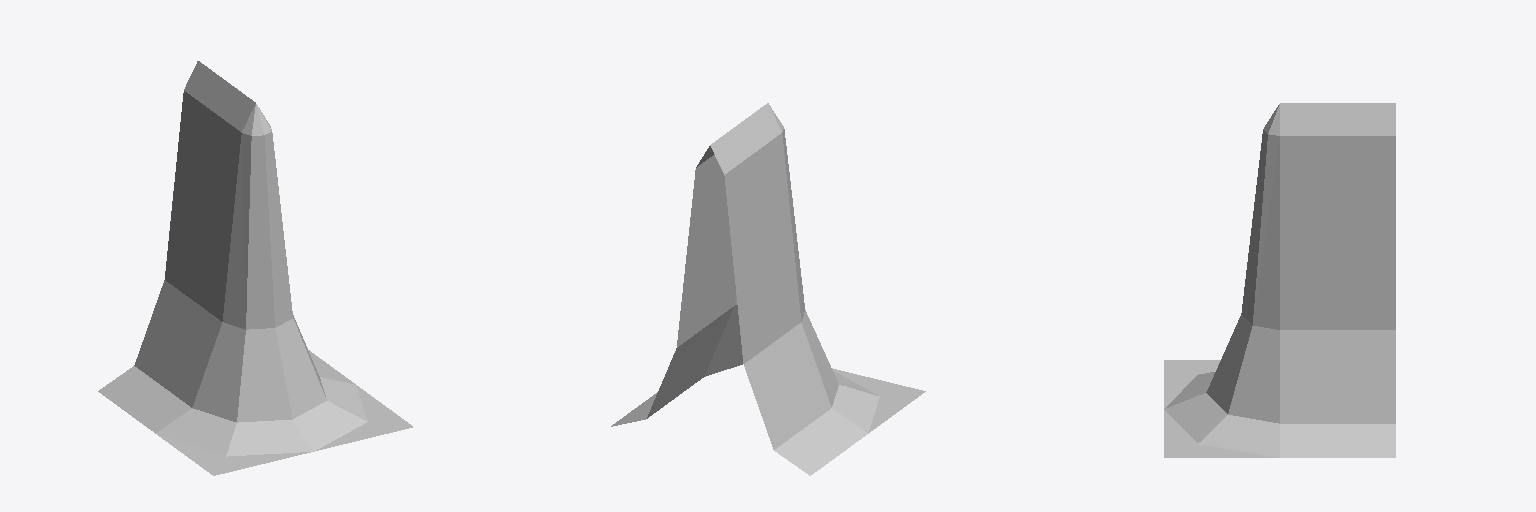
Rendered from wall_14.obj.
3 views of the same model, side by side, from view 1: azimuth 30°, elevation 25°; view 2: azimuth 150°, elevation 25°; view 3: azimuth 270°, elevation 25° (orthographic).
Visible parts, largest first — view 1: wall_14_Cave_Wall_Outer.002; view 2: wall_14_Cave_Wall_Outer.002; view 3: wall_14_Cave_Wall_Outer.002.
Boxes of the visible parts, x1=… form: wall_14_Cave_Wall_Outer.002: x1=98, y1=61, x2=412, y2=475; wall_14_Cave_Wall_Outer.002: x1=611, y1=103, x2=925, y2=475; wall_14_Cave_Wall_Outer.002: x1=1164, y1=103, x2=1395, y2=457.
Bounding box in the file's own units: 1 × 1.46 × 1.